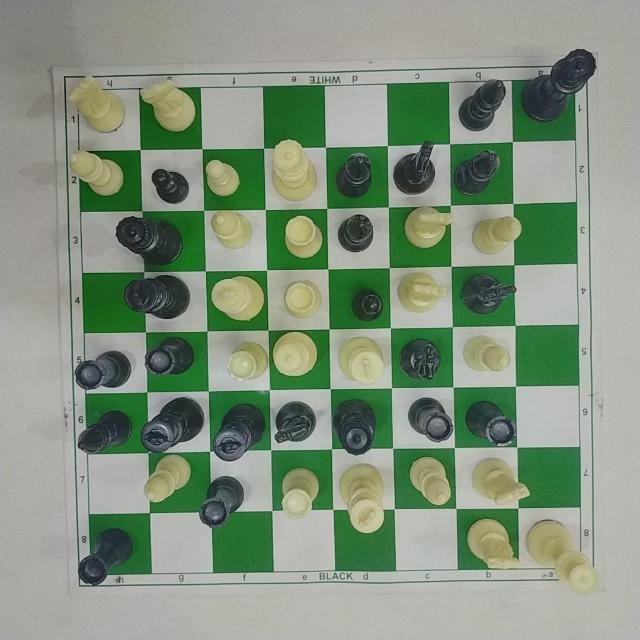black-bishop: (455, 77, 507, 133), (74, 408, 134, 456), (452, 147, 502, 196), (333, 150, 374, 200), (336, 212, 376, 254)
black-king: (137, 395, 206, 453), (211, 402, 269, 463), (121, 272, 193, 321)
black-knight: (392, 139, 438, 197), (460, 270, 518, 316), (397, 336, 443, 381), (273, 398, 317, 445)
black-pawn: (148, 166, 191, 205), (349, 287, 385, 323)
black-queen: (519, 45, 597, 125), (113, 212, 185, 268), (329, 397, 378, 457)
black-rook: (75, 526, 135, 588), (196, 474, 245, 532), (463, 399, 519, 449), (71, 349, 133, 391), (406, 395, 454, 445), (141, 335, 196, 378)
white-bishop: (65, 148, 126, 198), (141, 452, 193, 506), (407, 454, 453, 507), (469, 214, 524, 256), (460, 332, 512, 374), (208, 208, 253, 250)
white-king: (337, 461, 387, 536), (208, 273, 266, 323), (336, 334, 386, 387)
white-knight: (64, 73, 128, 134), (136, 77, 197, 133), (469, 455, 533, 507), (464, 516, 523, 572), (396, 270, 450, 315), (401, 205, 455, 249)
white-pawn: (203, 158, 243, 198)
white-queen: (522, 516, 601, 599), (269, 137, 319, 203), (270, 329, 320, 378)
white-rook: (279, 465, 321, 520), (282, 213, 324, 260), (224, 339, 269, 382), (281, 277, 323, 320)
